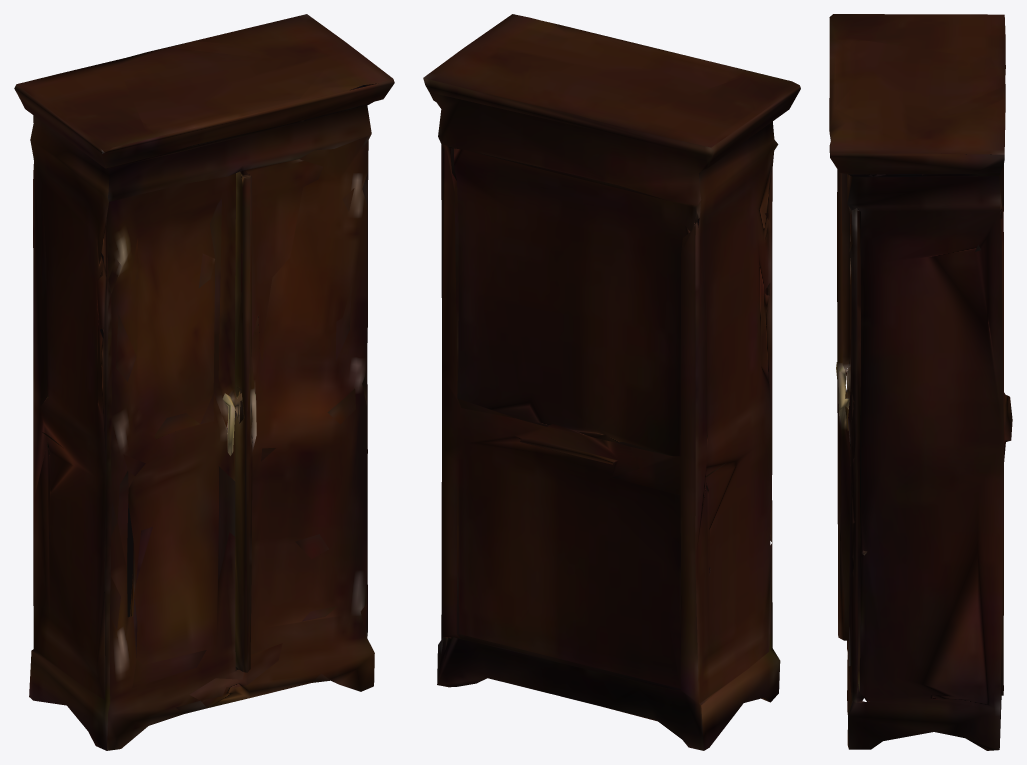
File: ropero.movil.glb
3 renders of one model, left to right at view 1: azimuth 30°, elevation 25°; view 2: azimuth 150°, elevation 25°; view 3: azimuth 270°, elevation 25°, orthographic.
Visible parts, largest first — view 1: geometry_0; view 2: geometry_0; view 3: geometry_0.
Boxes of the visible parts, x1,y1,x2,y2 form: geometry_0: [14, 14, 394, 750]; geometry_0: [423, 14, 800, 750]; geometry_0: [829, 14, 1012, 750].
Bounding box in the file's own units: 0.9976 × 2 × 0.5493.
Materials: 1 (1 with a texture image).
